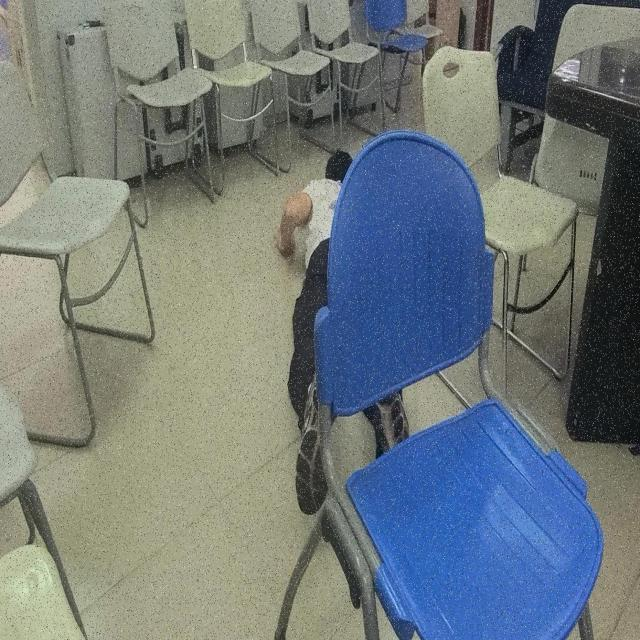fall: (274, 146, 412, 511)
